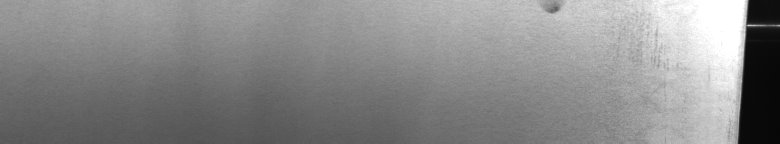fi: (540, 4, 564, 20)
